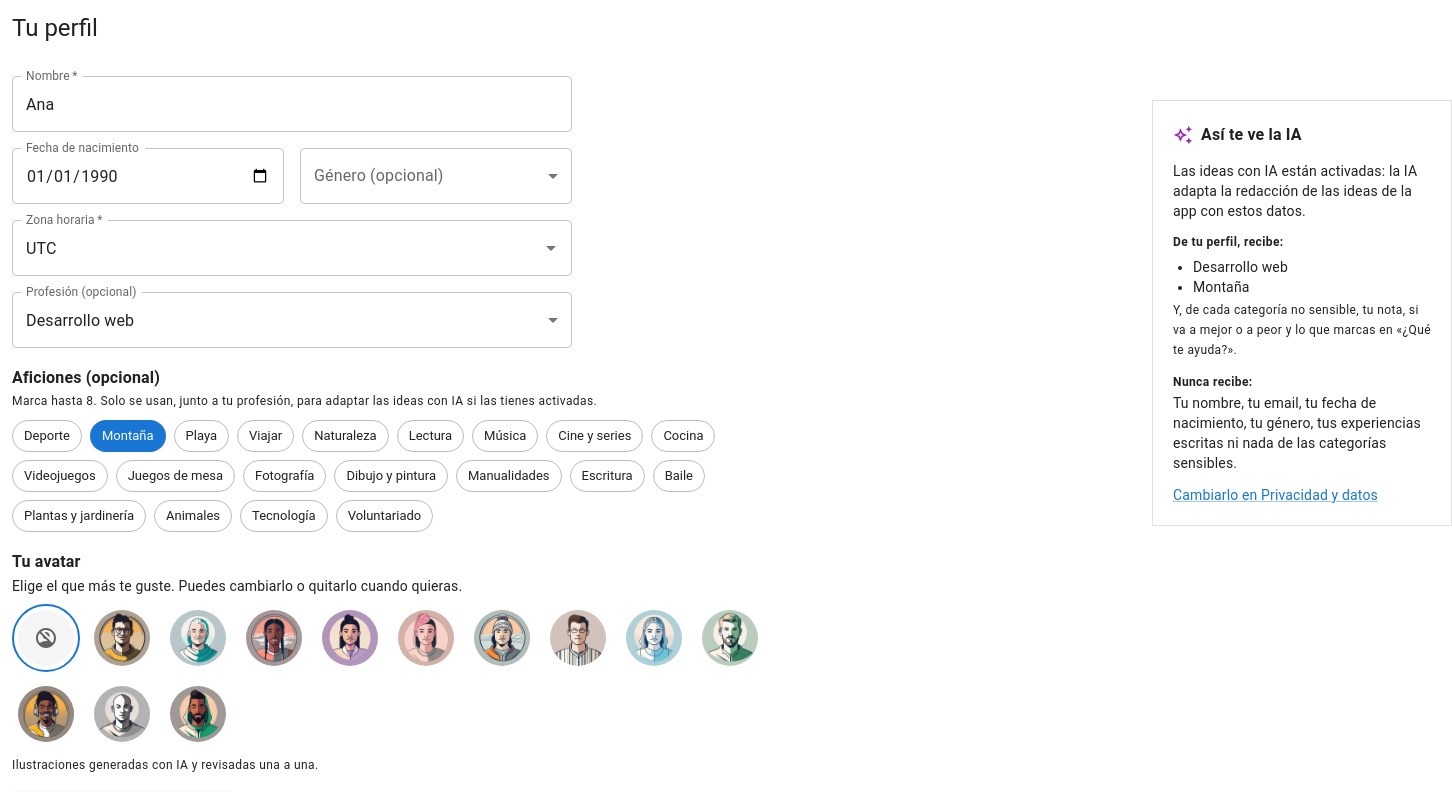
ProfileForm (RF-03) › Así te ve la IA › con las ideas con IA activadas, dice qué recibe la IA de este perfil (al momento, según se edita) y qué nunca recibe
Check: the text "están activadas" is shown, box [1173,163,1417,219]
Check: the list item "Desarrollo web" is shown, box [1193,259,1288,275]
Click the button "Viajar": (266, 436) [237,420,294,452]
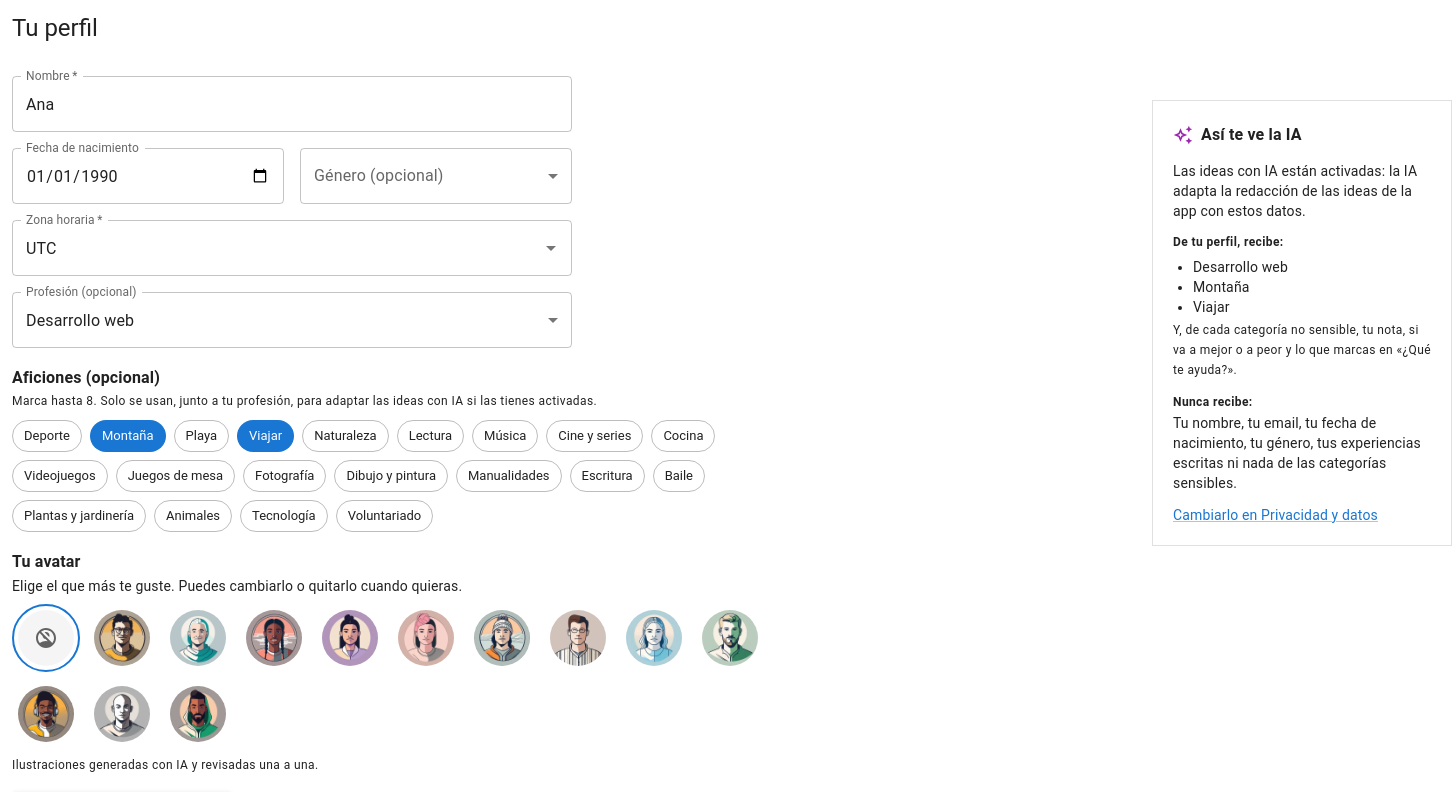
Check: the list item "Viajar" is shown, box [1193,299,1230,315]
